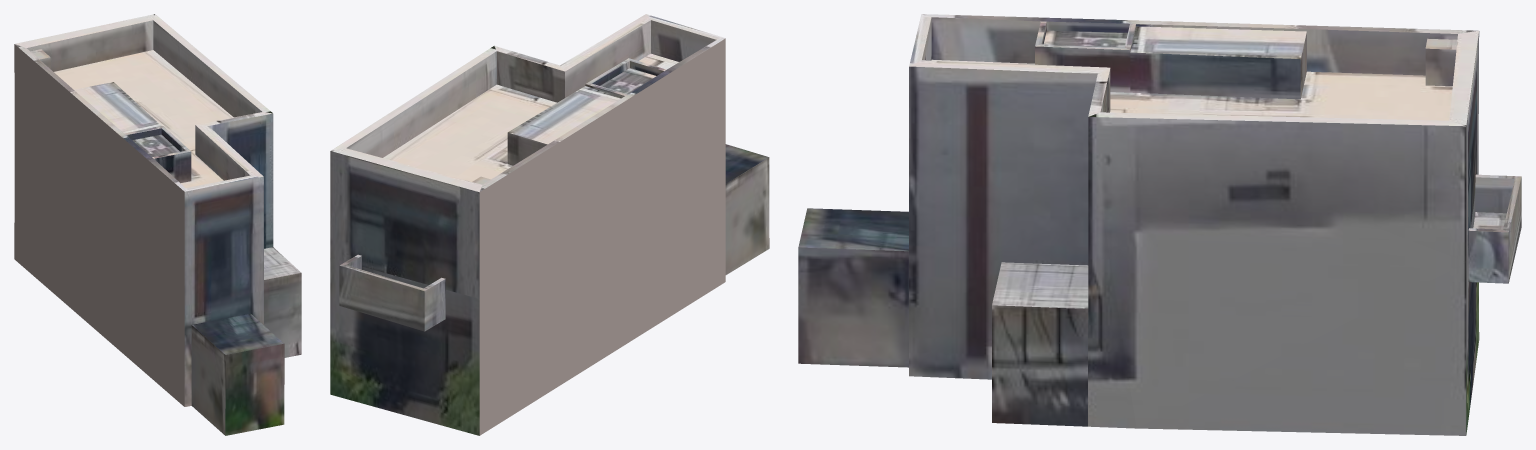
3 renders of one model, left to right at view 1: azimuth 30°, elevation 25°; view 2: azimuth 150°, elevation 25°; view 3: azimuth 270°, elevation 25°, orthographic. The views are drawn at different scales.
Visible parts, largest first — view 1: B284974034301062A0; view 2: B284974034301062A0; view 3: B284974034301062A0.
Part boxes in pixels (x1,y1,x2,y2): B284974034301062A0: [14, 14, 301, 435]; B284974034301062A0: [330, 14, 769, 435]; B284974034301062A0: [798, 14, 1521, 435].
Bounding box in the file's own units: 7.02 × 9.03 × 19.12.
1 material, 1 textured.
